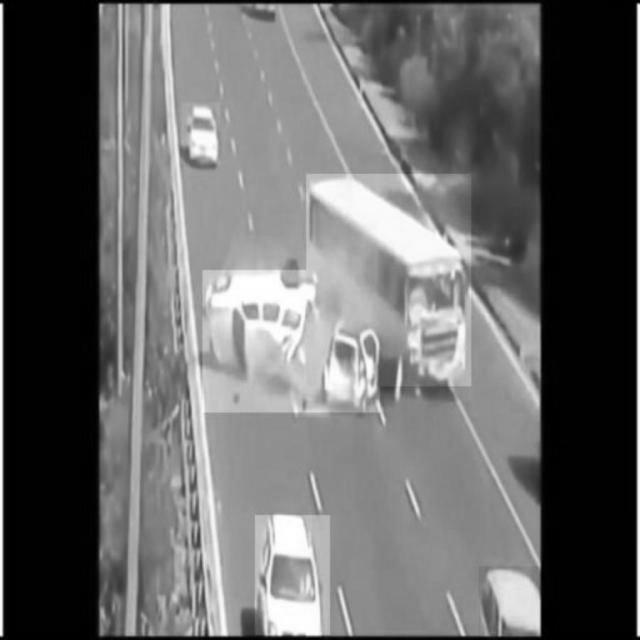accident: (202, 270, 380, 414)
vehicle: (307, 174, 472, 386), (255, 515, 329, 636), (479, 567, 547, 635), (181, 102, 219, 166)
